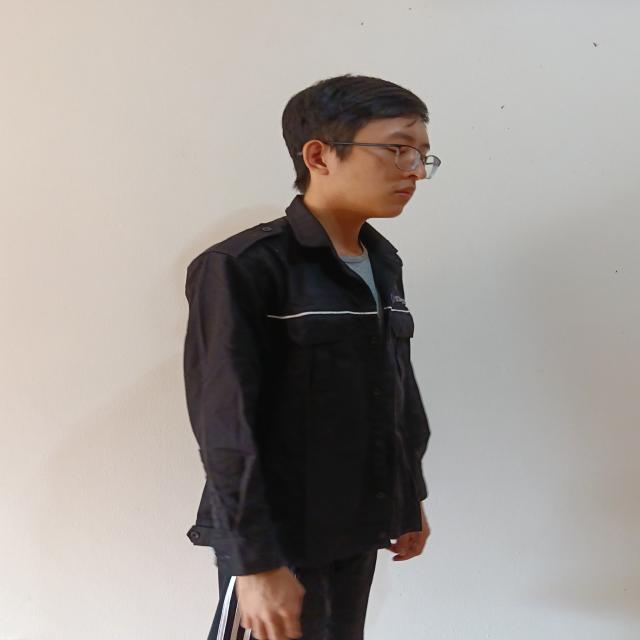person_with_labcoat: (184, 76, 439, 640)
